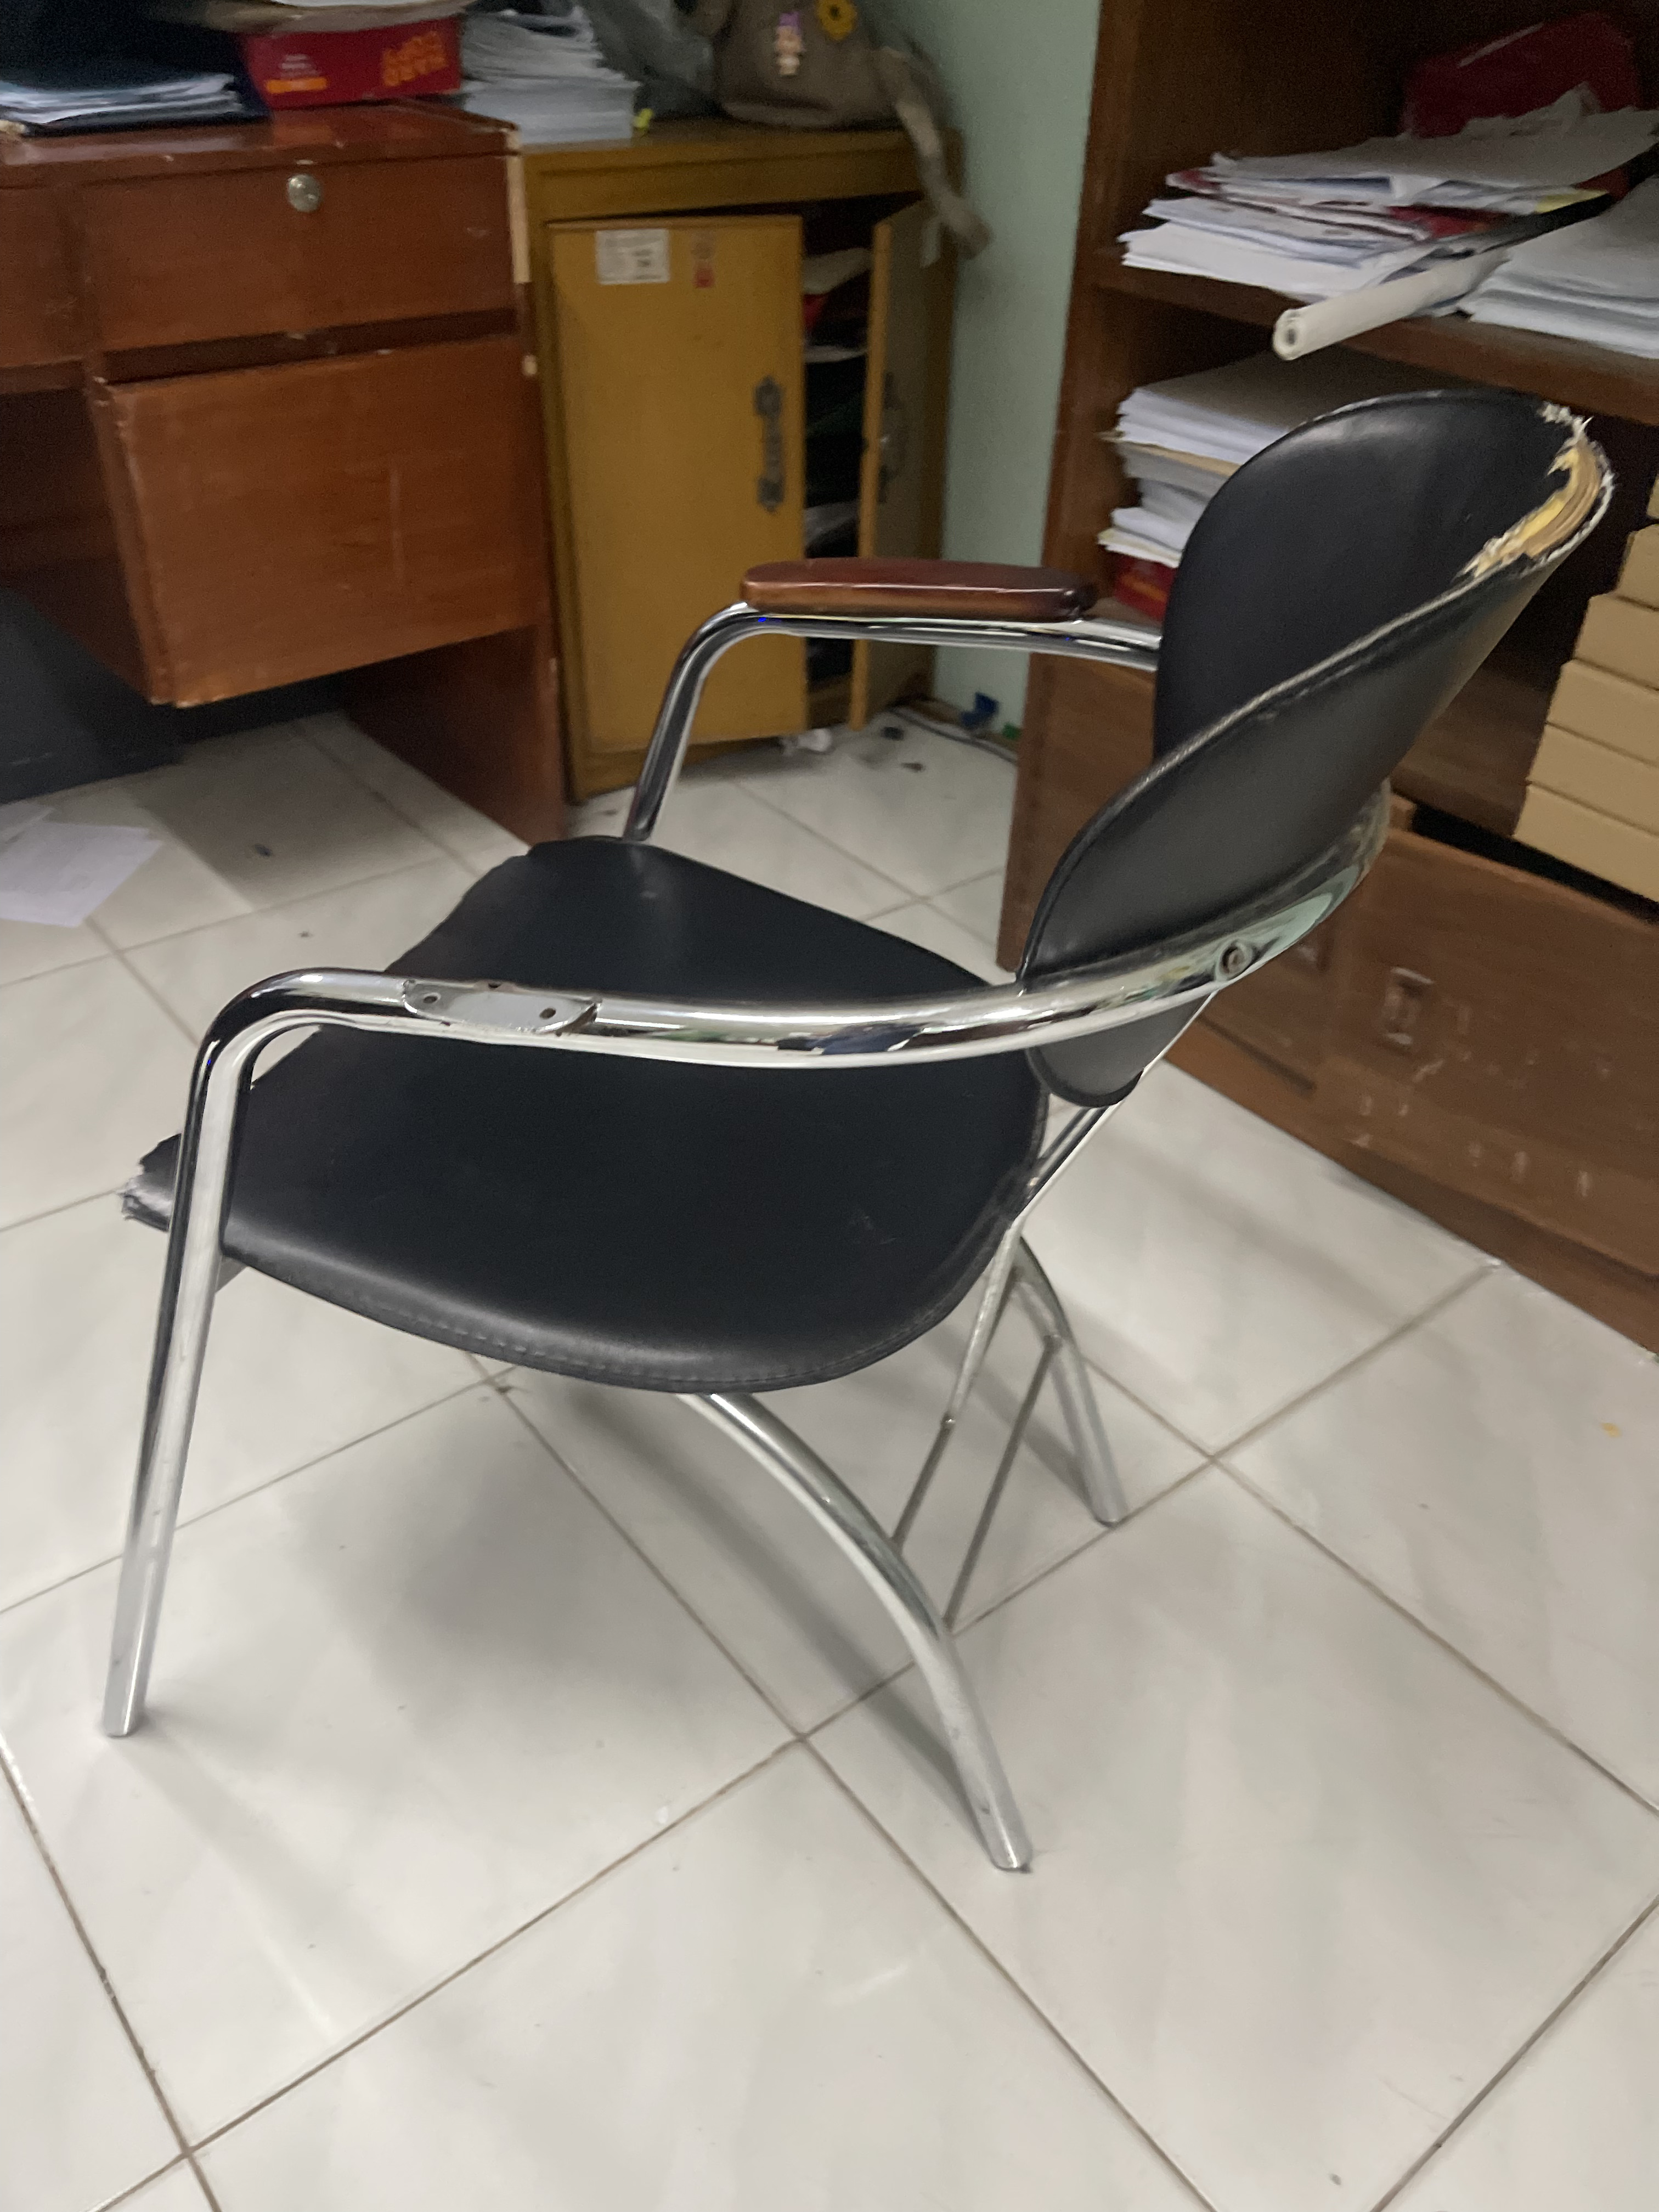chair1: (101, 397, 1615, 1876)
